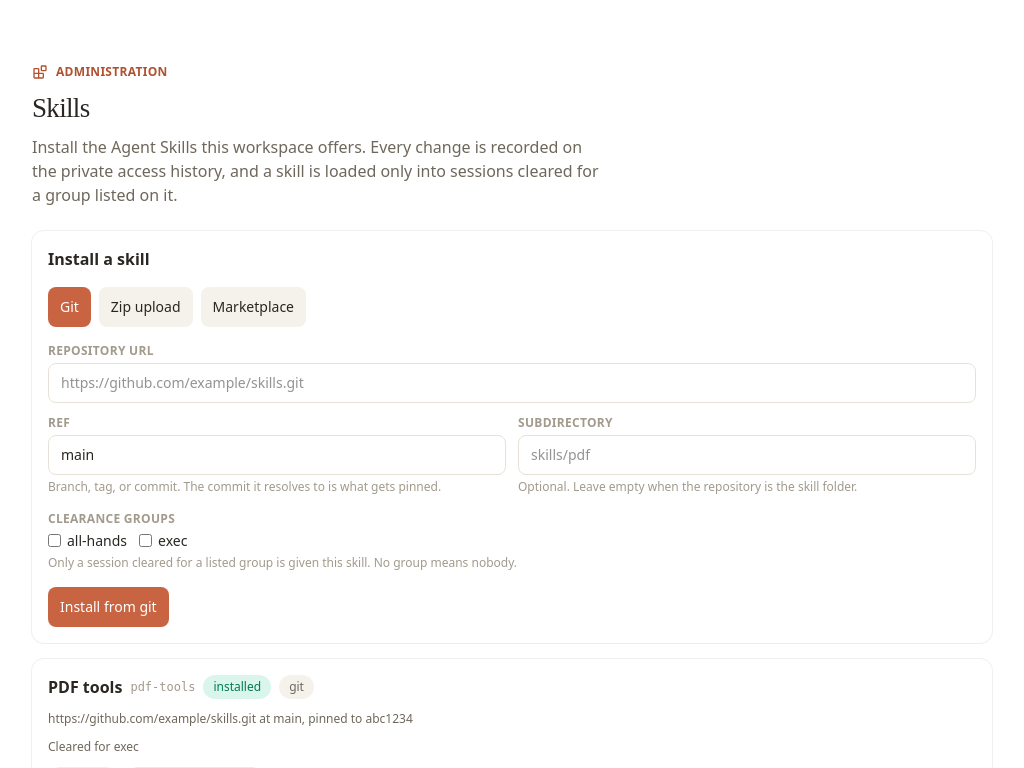
SkillsAdminPage › passes the configured index count down, and the tab loads the indexes itself
The image size is (1024, 768).
Click the button "Marketplace" at (253, 306), box [200,286,306,326]
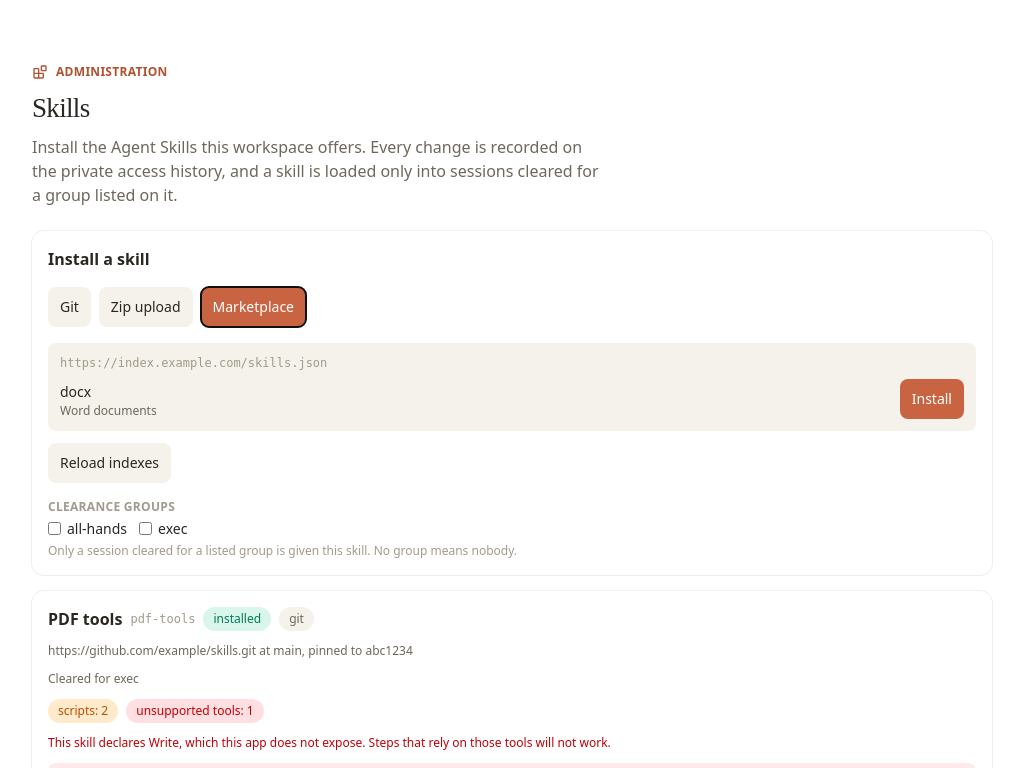
Expected: the text "docx" is shown, [60,382,91,400]
Expected: the text "Word documents" is shown, [60,402,157,418]
